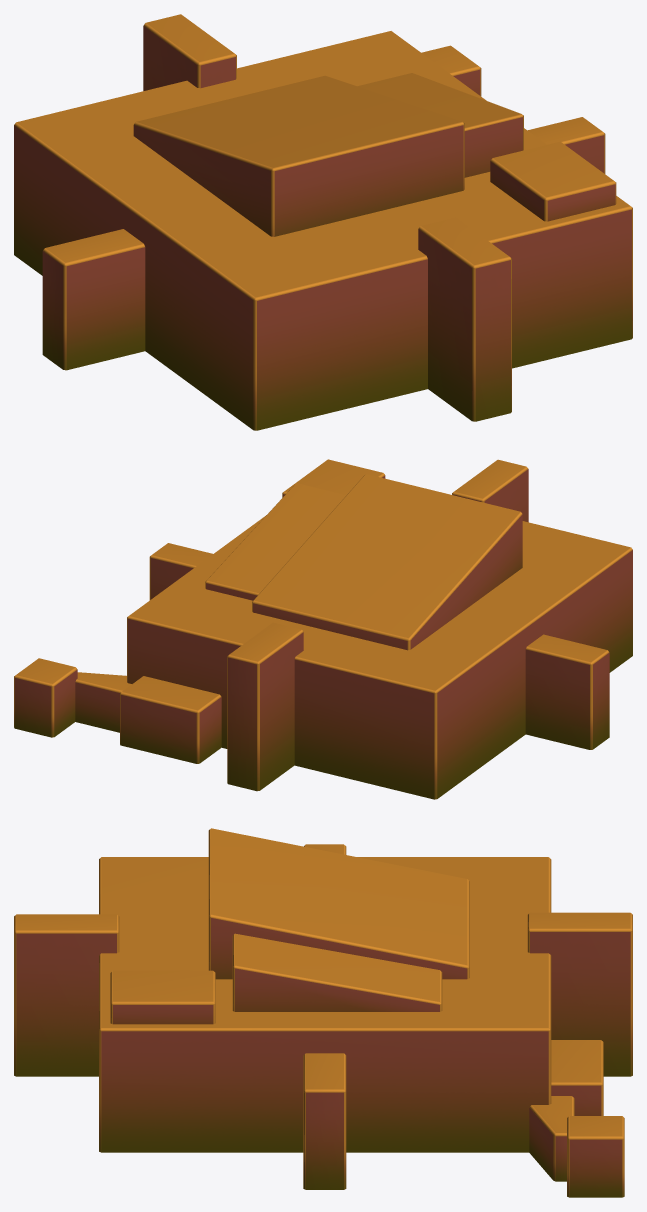
Rendered from prop_BuildingMedium01.fbx.
3 views of the same model, one above another, from view 1: azimuth 30°, elevation 25°; view 2: azimuth 150°, elevation 25°; view 3: azimuth 270°, elevation 25° (orthographic). The views are drawn at different scales.
Visible parts, largest first — view 1: prop_BuildingMedium01; view 2: prop_BuildingMedium01; view 3: prop_BuildingMedium01.
Boxes of the visible parts, x1,y1,x2,y2 form: prop_BuildingMedium01: (14, 14, 632, 430); prop_BuildingMedium01: (14, 459, 632, 799); prop_BuildingMedium01: (14, 828, 632, 1197).
Size of the model in its own units: 2401 by 822 by 2464.
